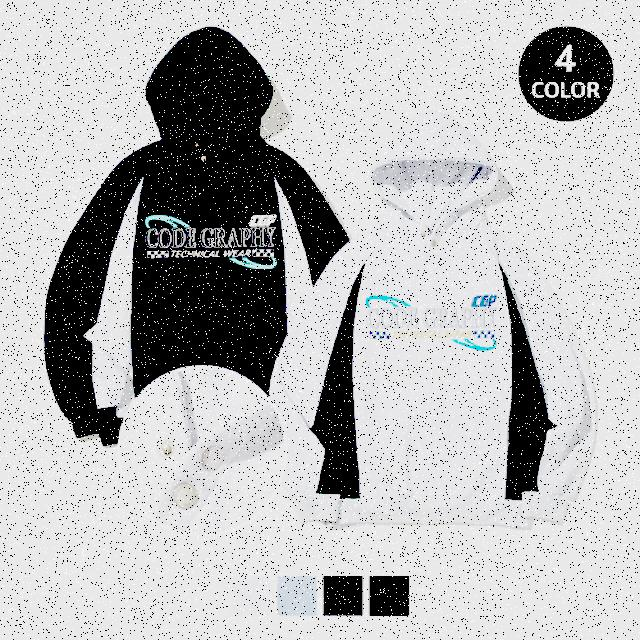Blouse_deep: (258, 74, 600, 546), (41, 18, 337, 462)
